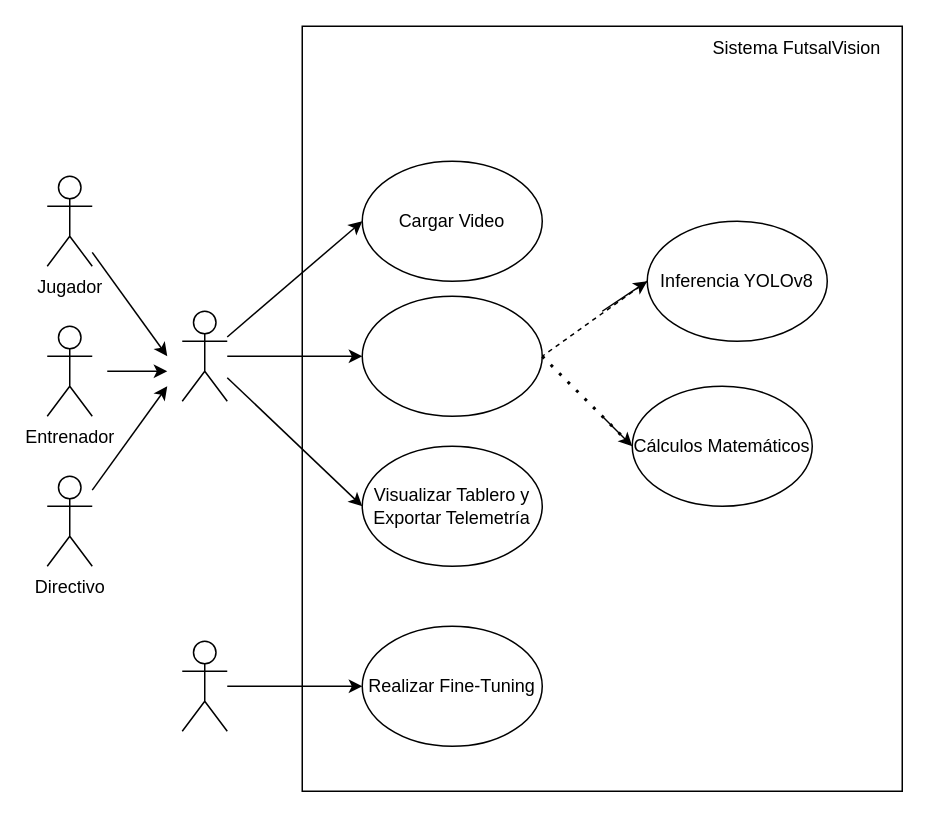
Image size: 929x818. Some labels were removed from this diagram. The centre of each missing label's shape, as x and y in pixels:
"Administrador" belongs at (x=204, y=685).
"Ejecutar Análisis" belongs at (x=451, y=355).
"Usuario" belongs at (x=204, y=355).
